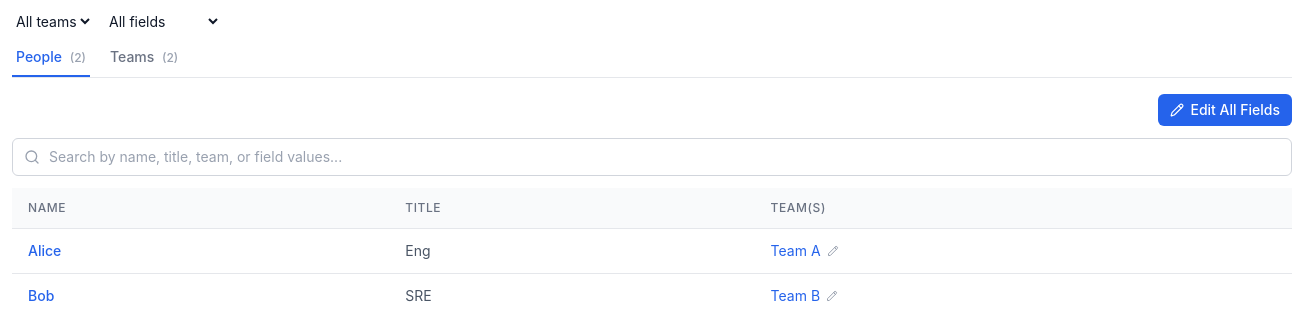
Test: DataQualityTab › team filter › filters people by team when team is selected
Step 1. Select "Team A" in the dropdown with test id "team-filter" → (52, 22), box [12,12,93,31]
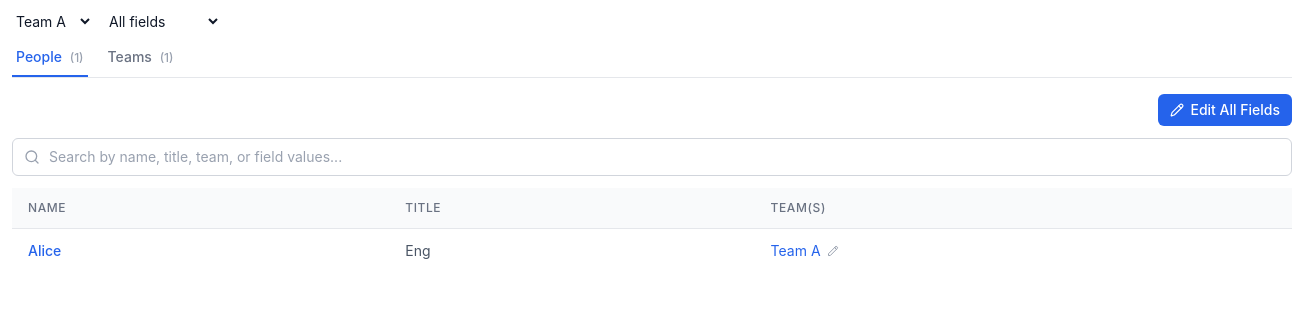
Expected: the text "Alice" is shown, [28,241,61,261]
Expected: the text "Bob" is gone
